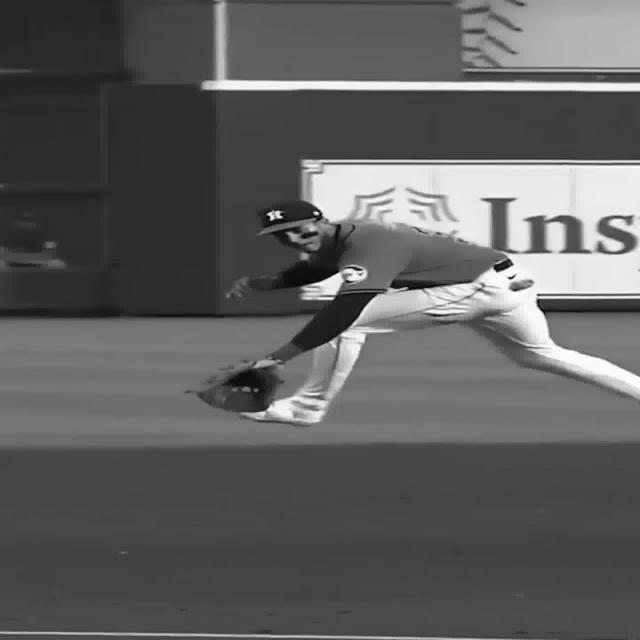baseball: (265, 406, 298, 424)
baseball_glove: (188, 358, 286, 412)
shoe: (238, 398, 328, 427)
